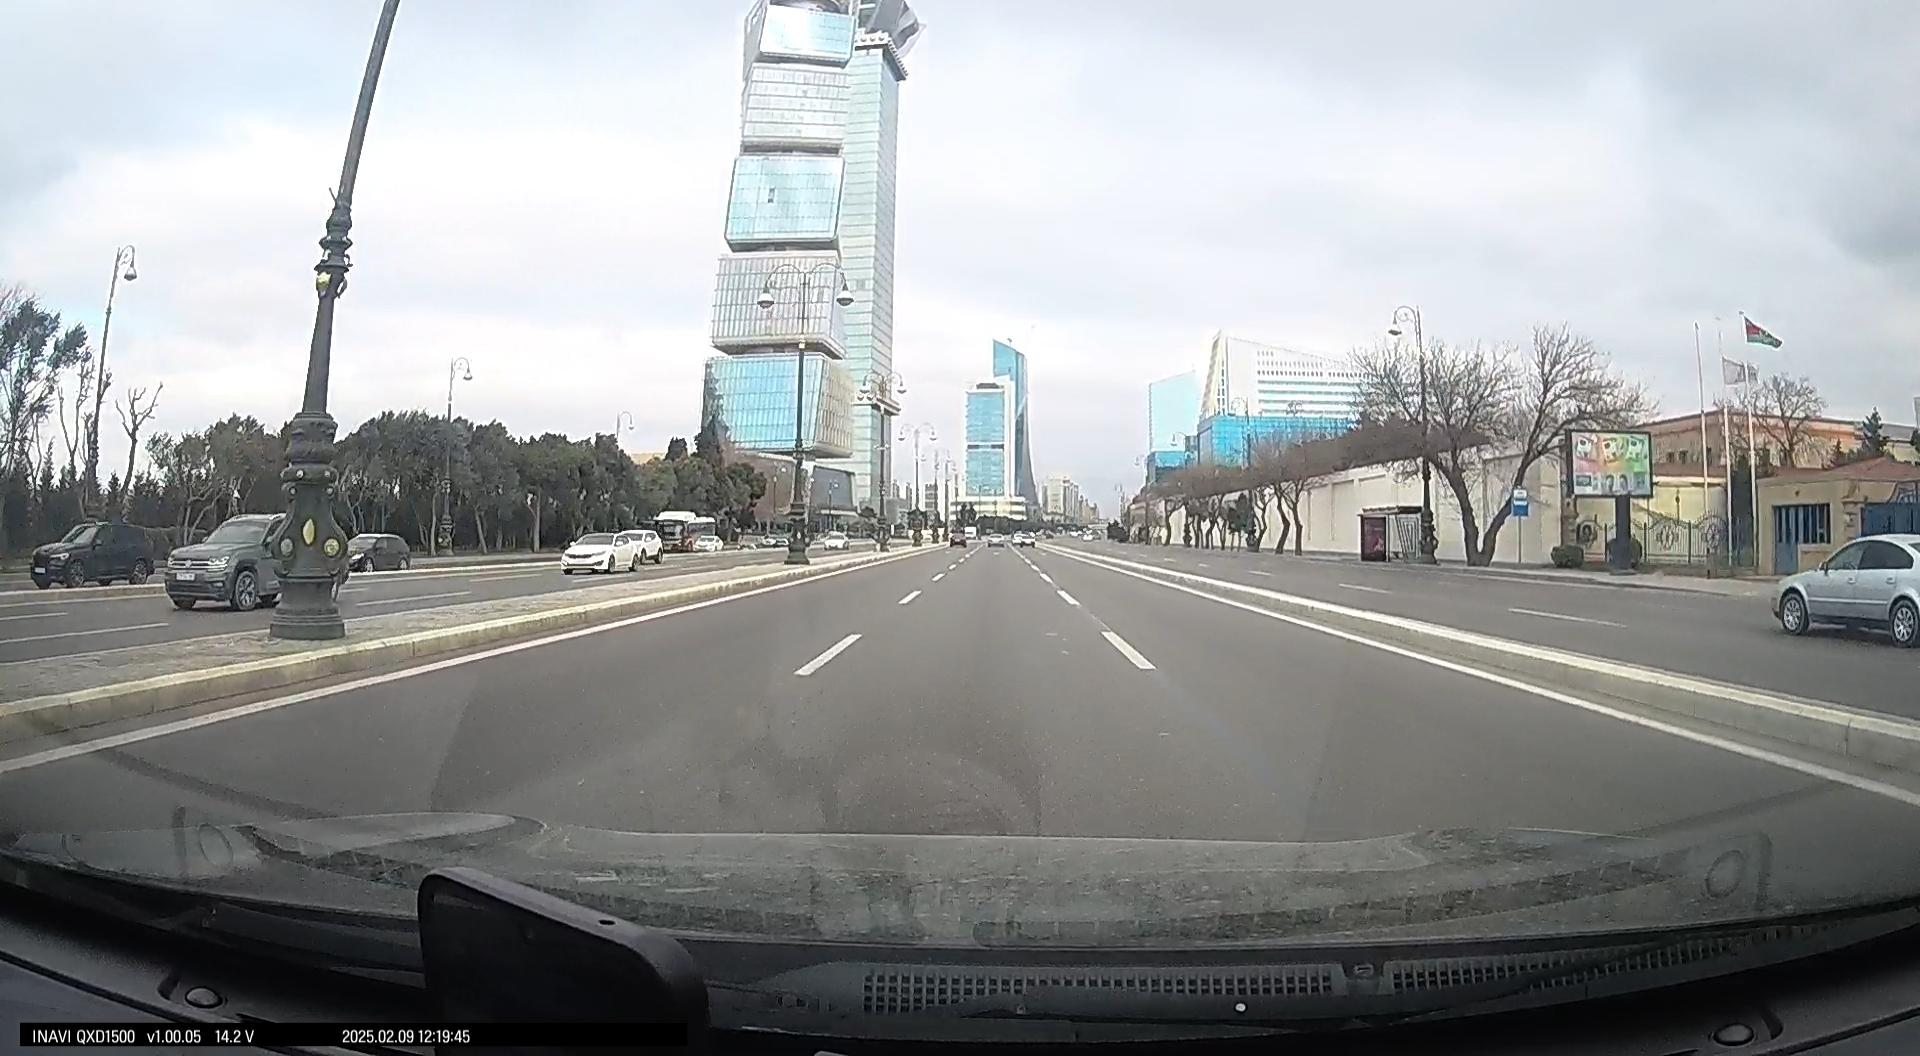banner: (1564, 428, 1654, 501)
